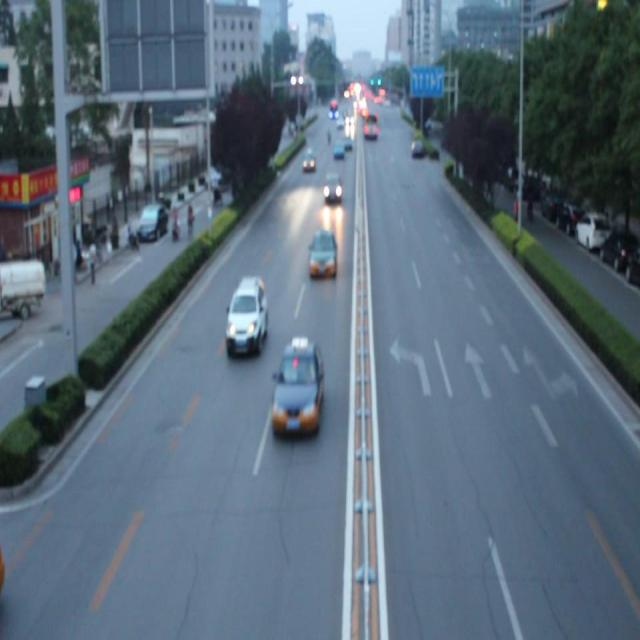car: (270, 339, 321, 435), (224, 274, 267, 352), (306, 228, 336, 278), (323, 169, 342, 204)
